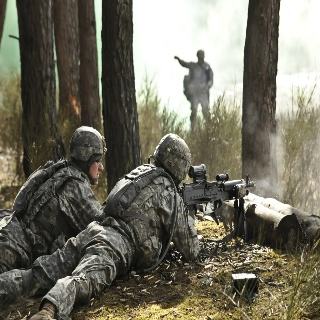rifle: (177, 164, 256, 242)
